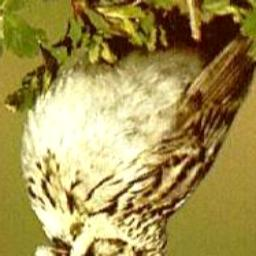Sparrow: (14, 0, 256, 256)
